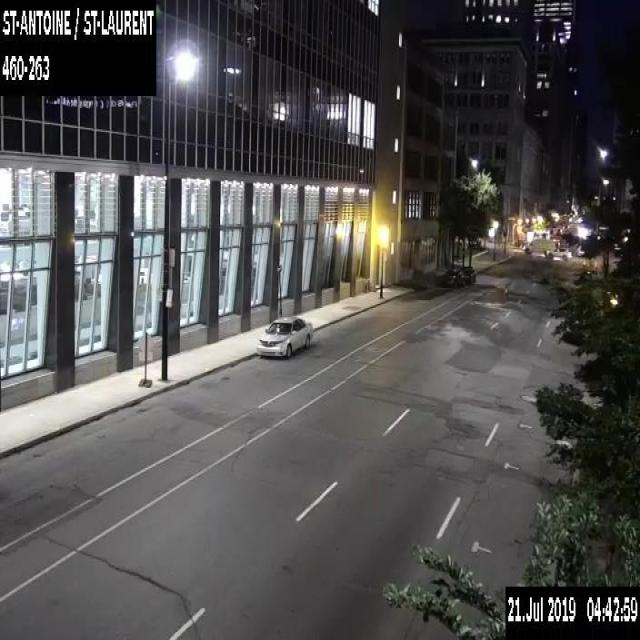construction: (134, 329, 156, 363), (581, 259, 598, 273)
vehicle: (254, 314, 314, 358), (452, 264, 476, 287), (524, 236, 553, 255), (547, 246, 572, 258)
